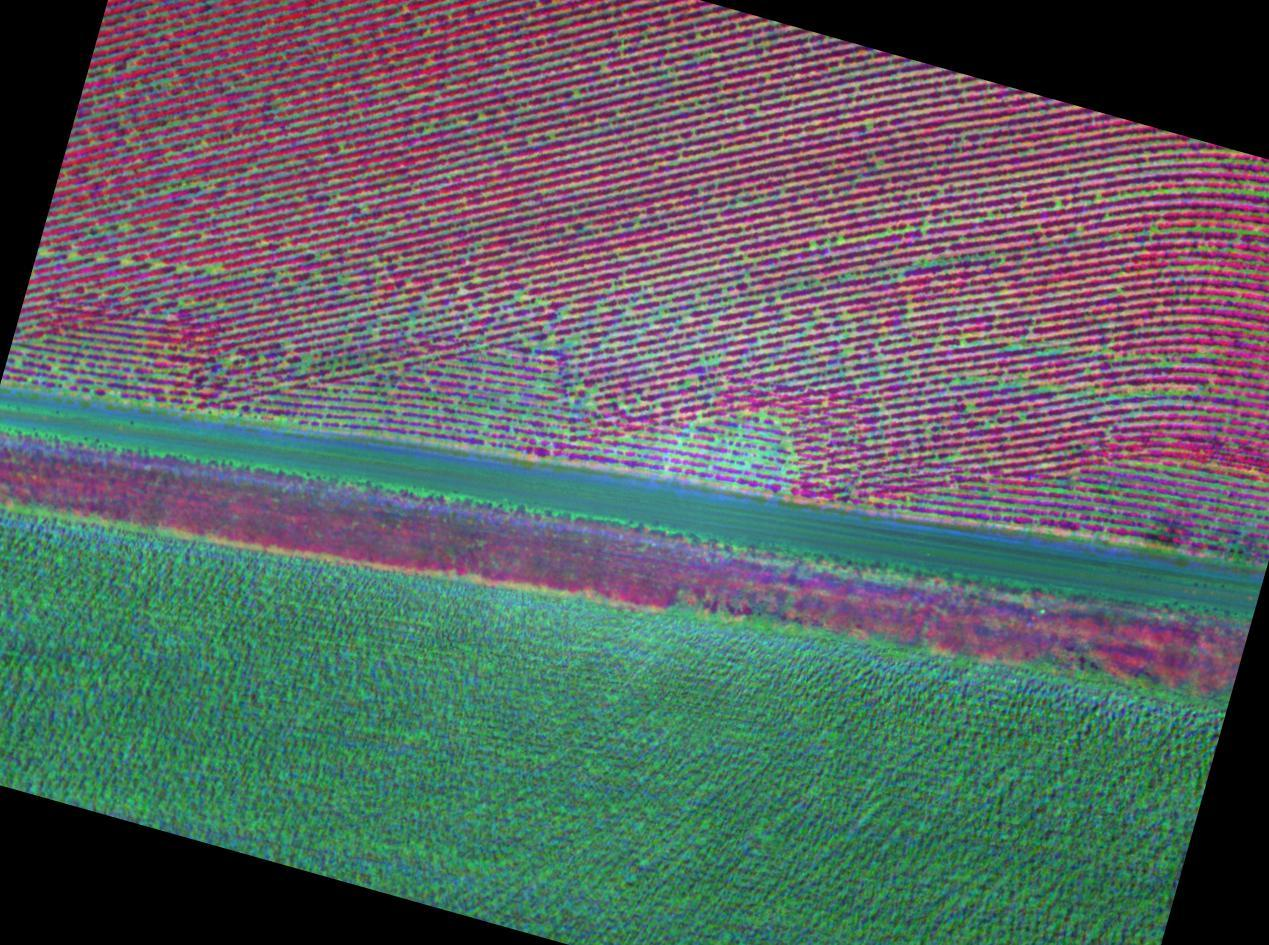dc: (536, 383, 541, 389), (208, 268, 213, 272), (783, 443, 787, 448), (260, 355, 264, 359), (53, 368, 57, 372), (164, 350, 168, 353), (686, 382, 690, 385), (71, 254, 74, 257), (125, 259, 128, 262), (336, 192, 339, 194)
